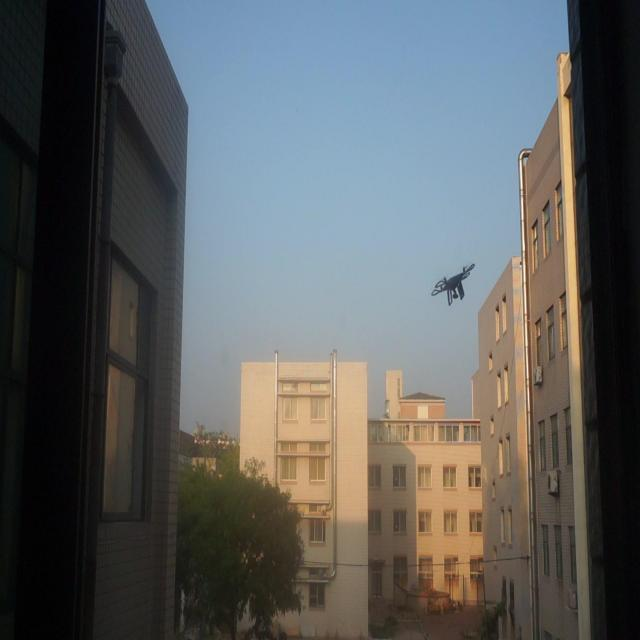UAV: (431, 263, 475, 306)
